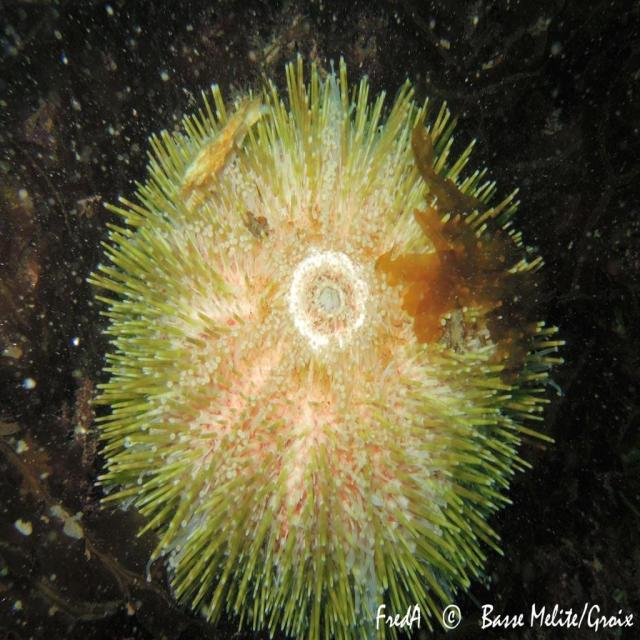Deniz Kestanesi: (89, 52, 566, 640)
